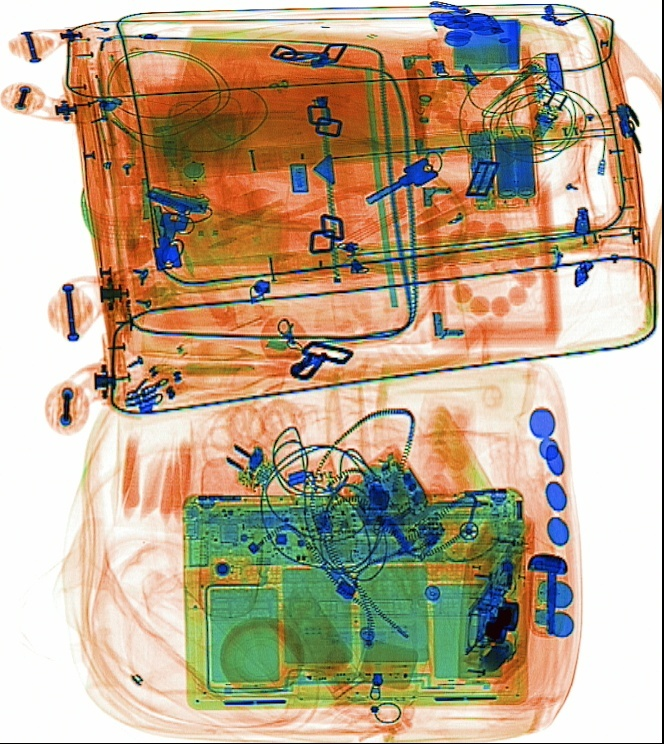powerbank: (467, 119, 539, 211)
